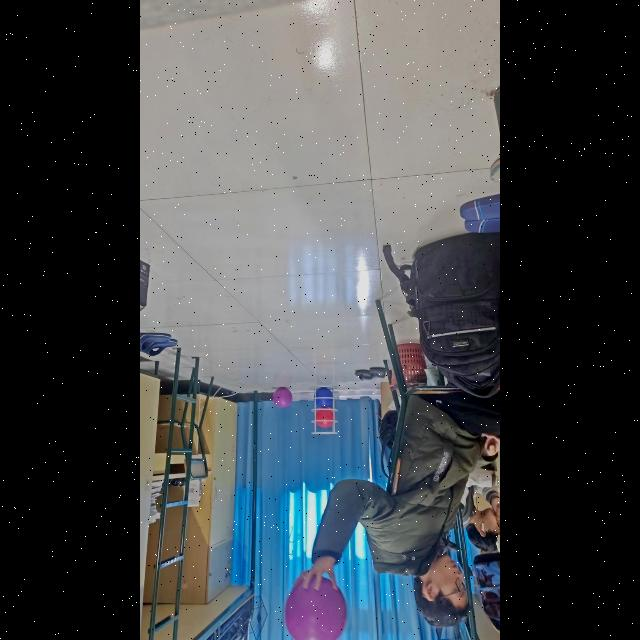B: (316, 387, 333, 407)
P: (285, 579, 347, 640), (273, 387, 292, 407)
R: (316, 409, 334, 428)
S: (312, 388, 337, 434)
